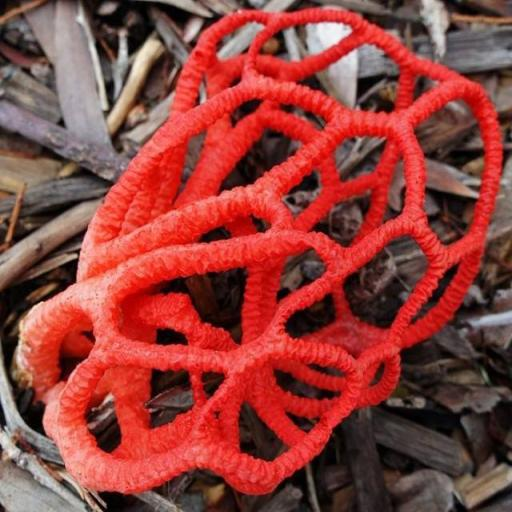Red Cage Fungus: (23, 13, 509, 492)
